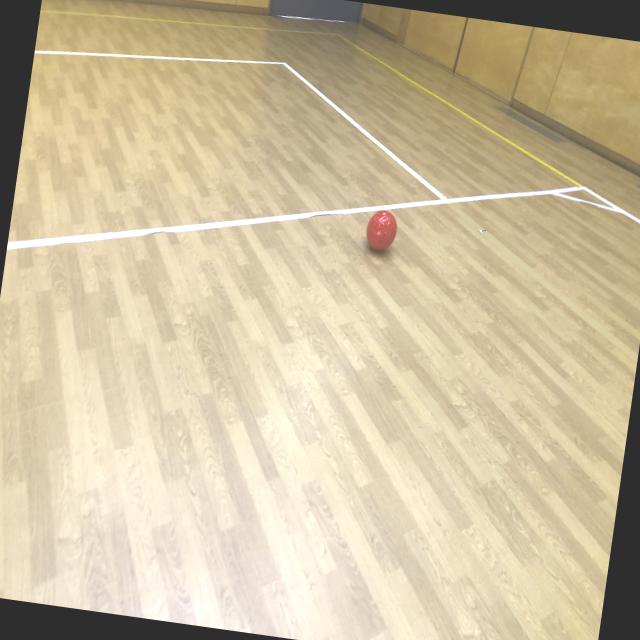red_ball: (366, 208, 396, 252)
